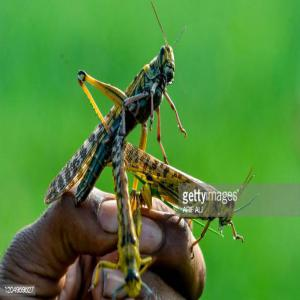locust: (55, 36, 183, 205)
